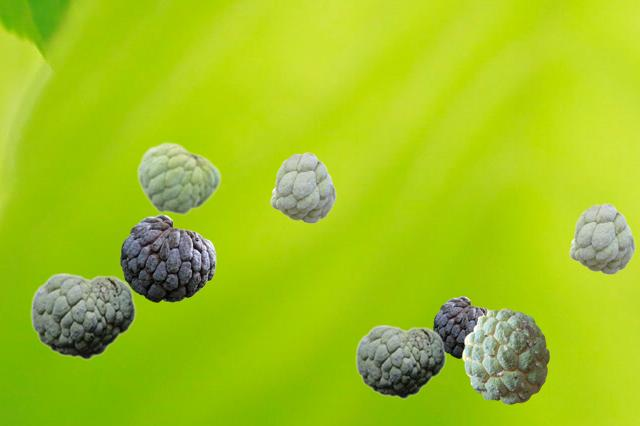atis: (30, 272, 135, 359), (120, 214, 215, 301), (462, 308, 548, 403), (355, 324, 445, 398), (136, 141, 220, 215), (270, 152, 335, 222), (569, 203, 634, 273), (433, 296, 489, 357)
